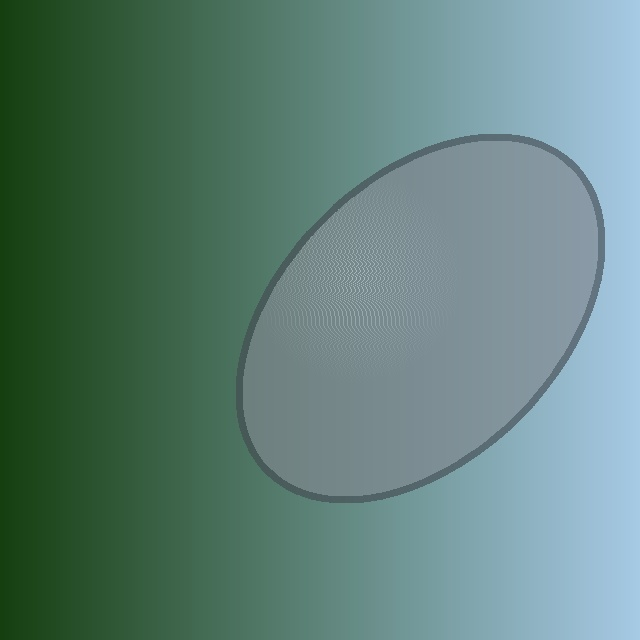lens: (239, 137, 601, 499)
